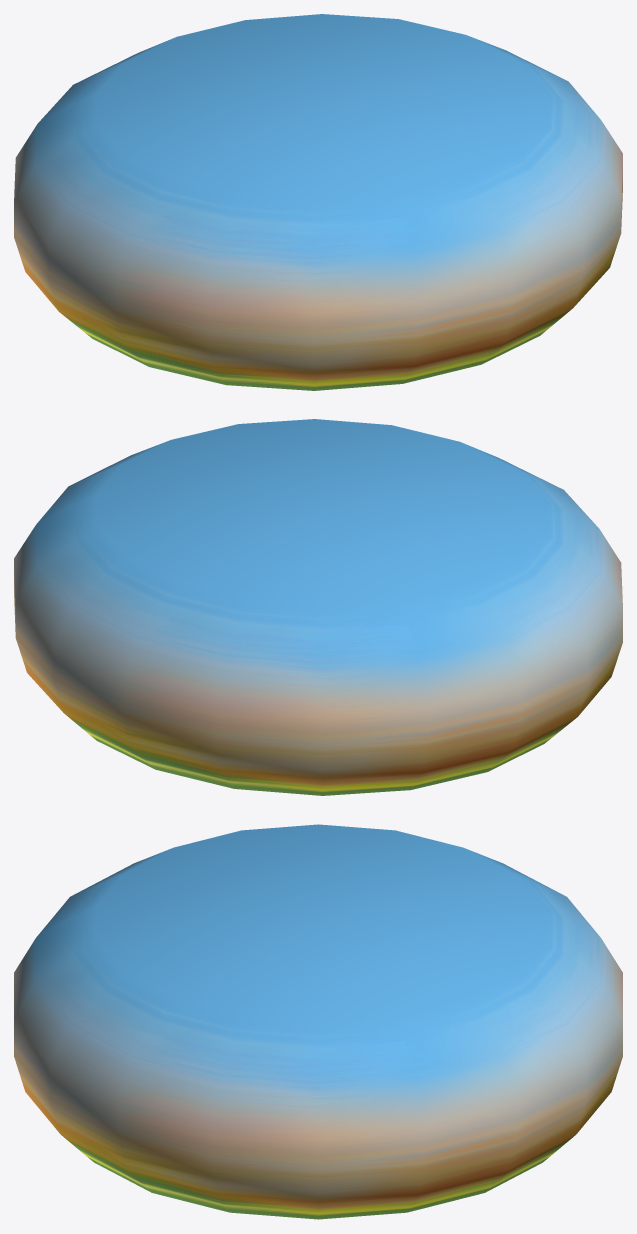
3 views of the same model, one above another, from view 1: azimuth 30°, elevation 25°; view 2: azimuth 150°, elevation 25°; view 3: azimuth 270°, elevation 25° (orthographic). The views are drawn at different scales.
Visible parts, largest first — view 1: BG; view 2: BG; view 3: BG.
Part boxes in pixels (x1,y1,x2,y2): BG: (14, 14, 622, 390); BG: (14, 419, 622, 795); BG: (14, 824, 622, 1219).
Size of the model in its own units: 584 by 188 by 553.
2 materials, 2 textured.
